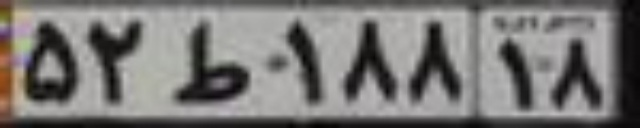1: (283, 18, 321, 102), (495, 37, 535, 108)
2: (89, 17, 145, 103)
5: (20, 20, 78, 102)
8: (337, 19, 395, 101), (408, 21, 462, 101), (550, 36, 604, 111)
taa: (172, 16, 252, 102)
